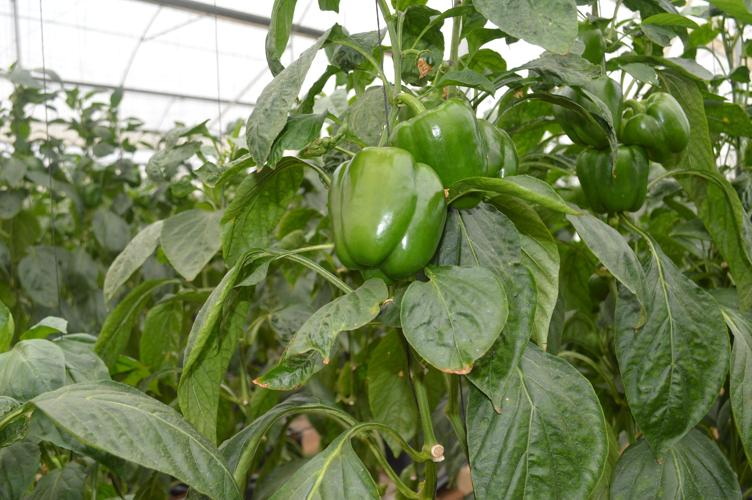BellPepper: (316, 149, 446, 274), (389, 103, 508, 212), (571, 139, 653, 231), (614, 90, 699, 169)
